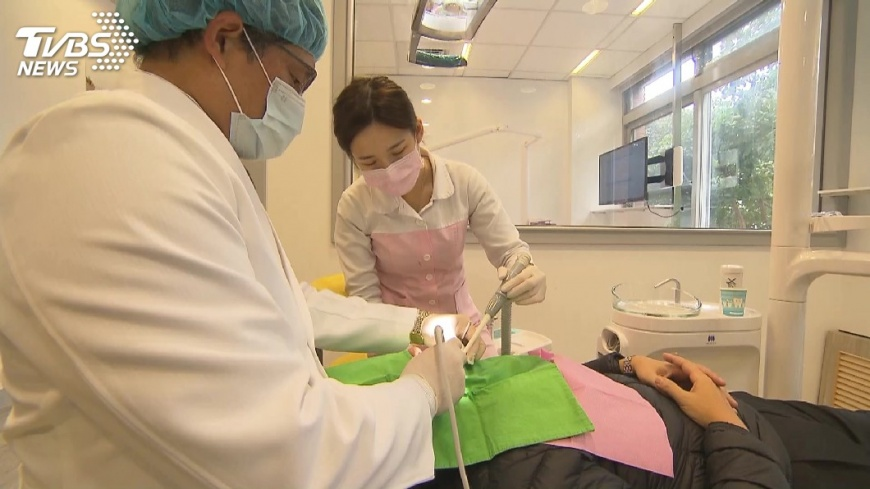mask: (227, 76, 305, 158), (363, 149, 426, 194)
